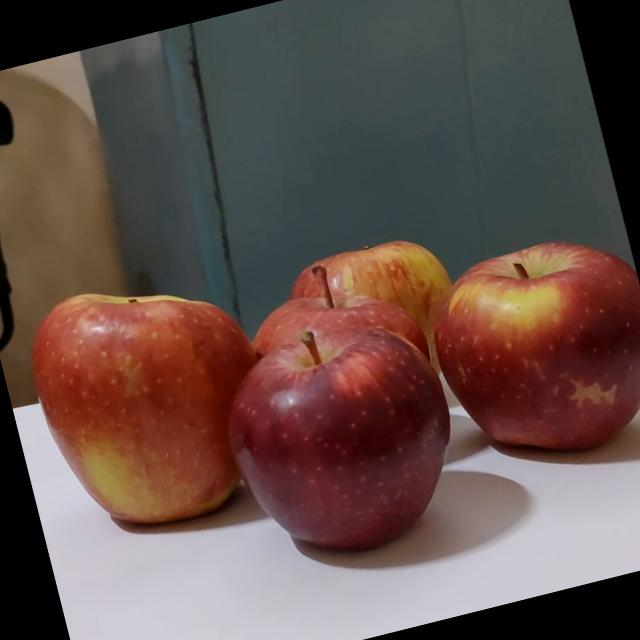apple: (18, 266, 276, 544), (204, 308, 462, 574), (399, 226, 640, 487), (229, 249, 442, 492), (284, 222, 476, 430)
